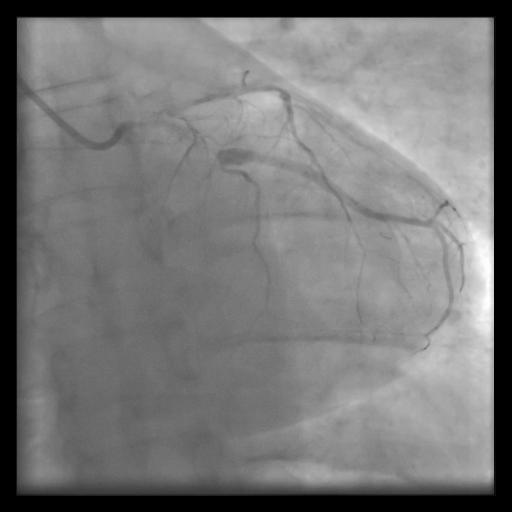Stenosis: (192, 136, 226, 171)
